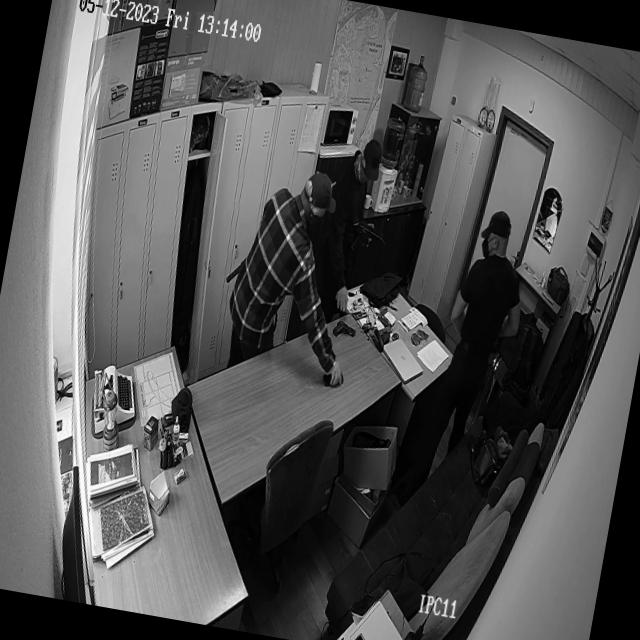gun: (347, 216, 390, 256), (332, 318, 356, 342)
person: (452, 210, 526, 346), (257, 162, 333, 276)
person with a gun: (301, 115, 409, 348)
